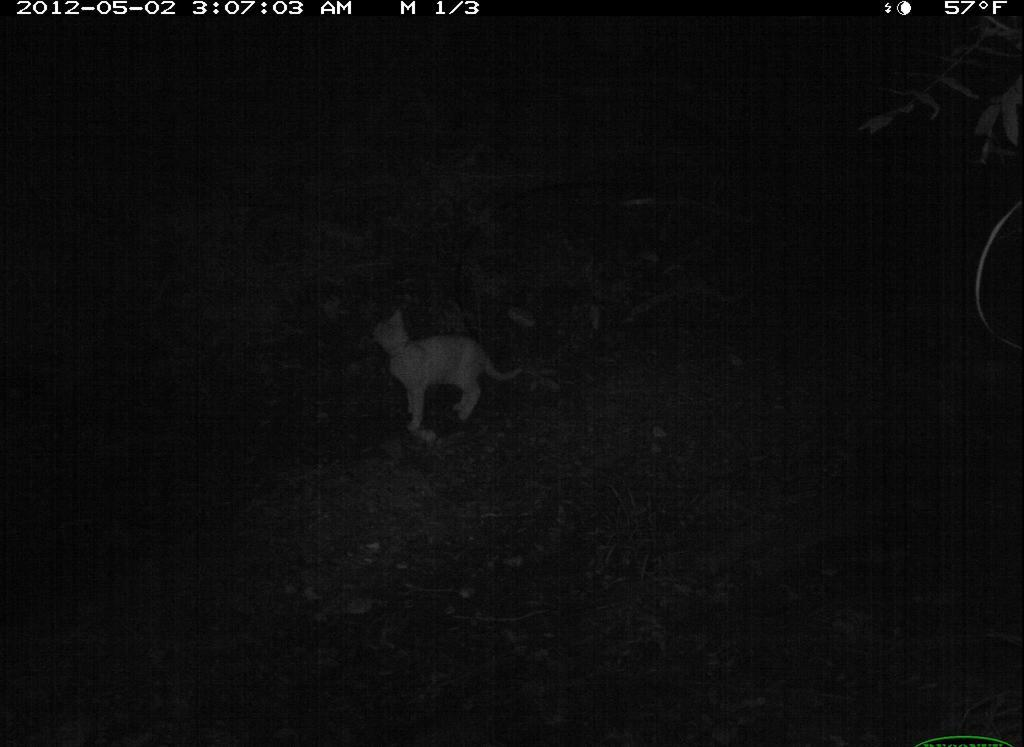cat: (367, 302, 529, 441)
